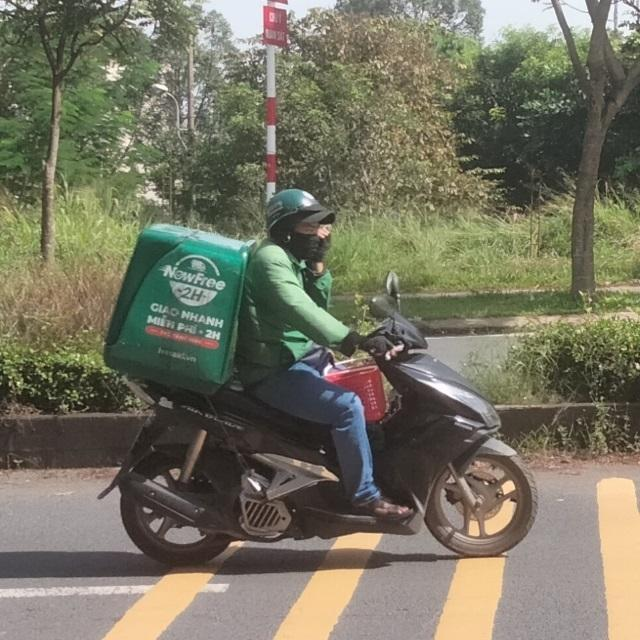Helmet: (260, 186, 334, 270)
